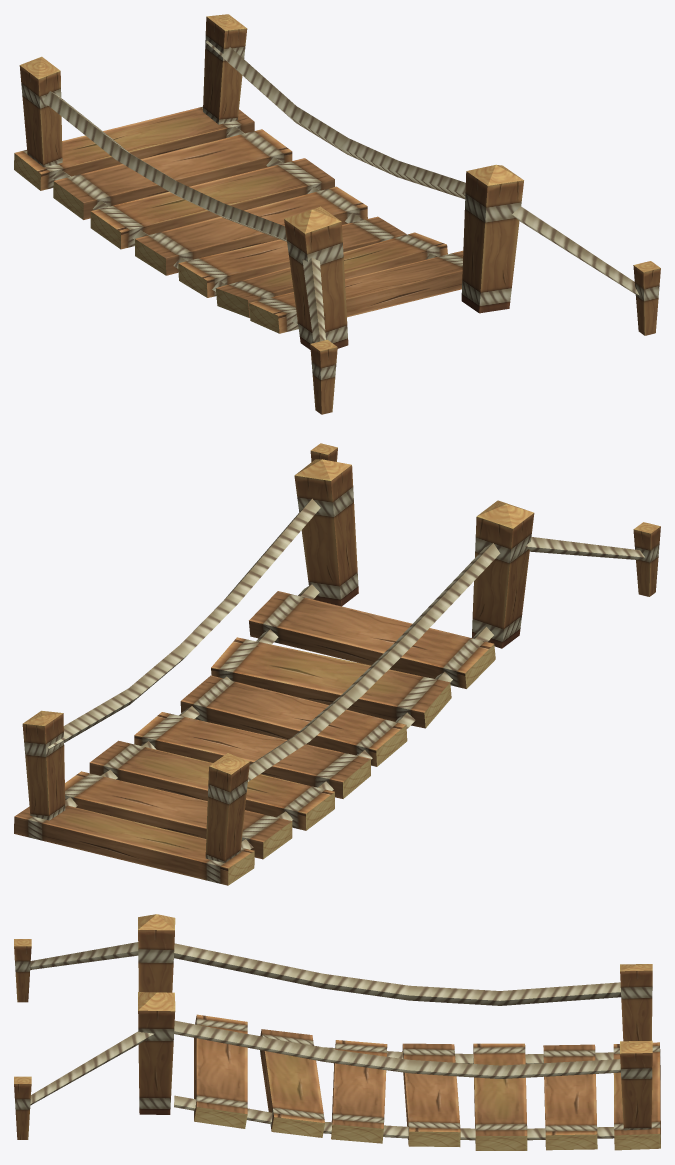
Rendered from bridge_01_tile_01.fbx.
The picture shows the model from 3 angles, top to bottom: view 1: azimuth 30°, elevation 25°; view 2: azimuth 150°, elevation 25°; view 3: azimuth 270°, elevation 25°; orthographic projection. The views are drawn at different scales.
Visible parts, largest first — view 1: bridge_01_tile_01Mesh; view 2: bridge_01_tile_01Mesh; view 3: bridge_01_tile_01Mesh.
Part boxes in pixels (x1=…): bridge_01_tile_01Mesh: x1=14, y1=14, x2=660, y2=414; bridge_01_tile_01Mesh: x1=14, y1=443, x2=660, y2=885; bridge_01_tile_01Mesh: x1=14, y1=914, x2=660, y2=1150.
Bounding box in the file's own units: 2.41 × 1.16 × 4.53.
